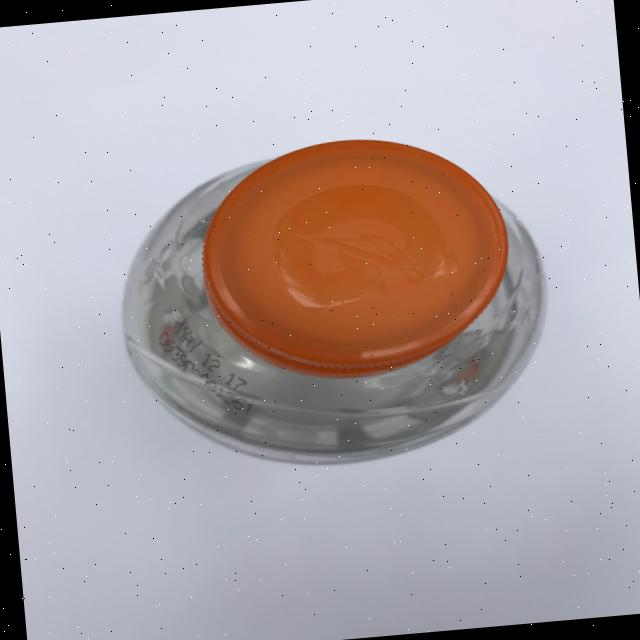plastic: (107, 124, 560, 482)
